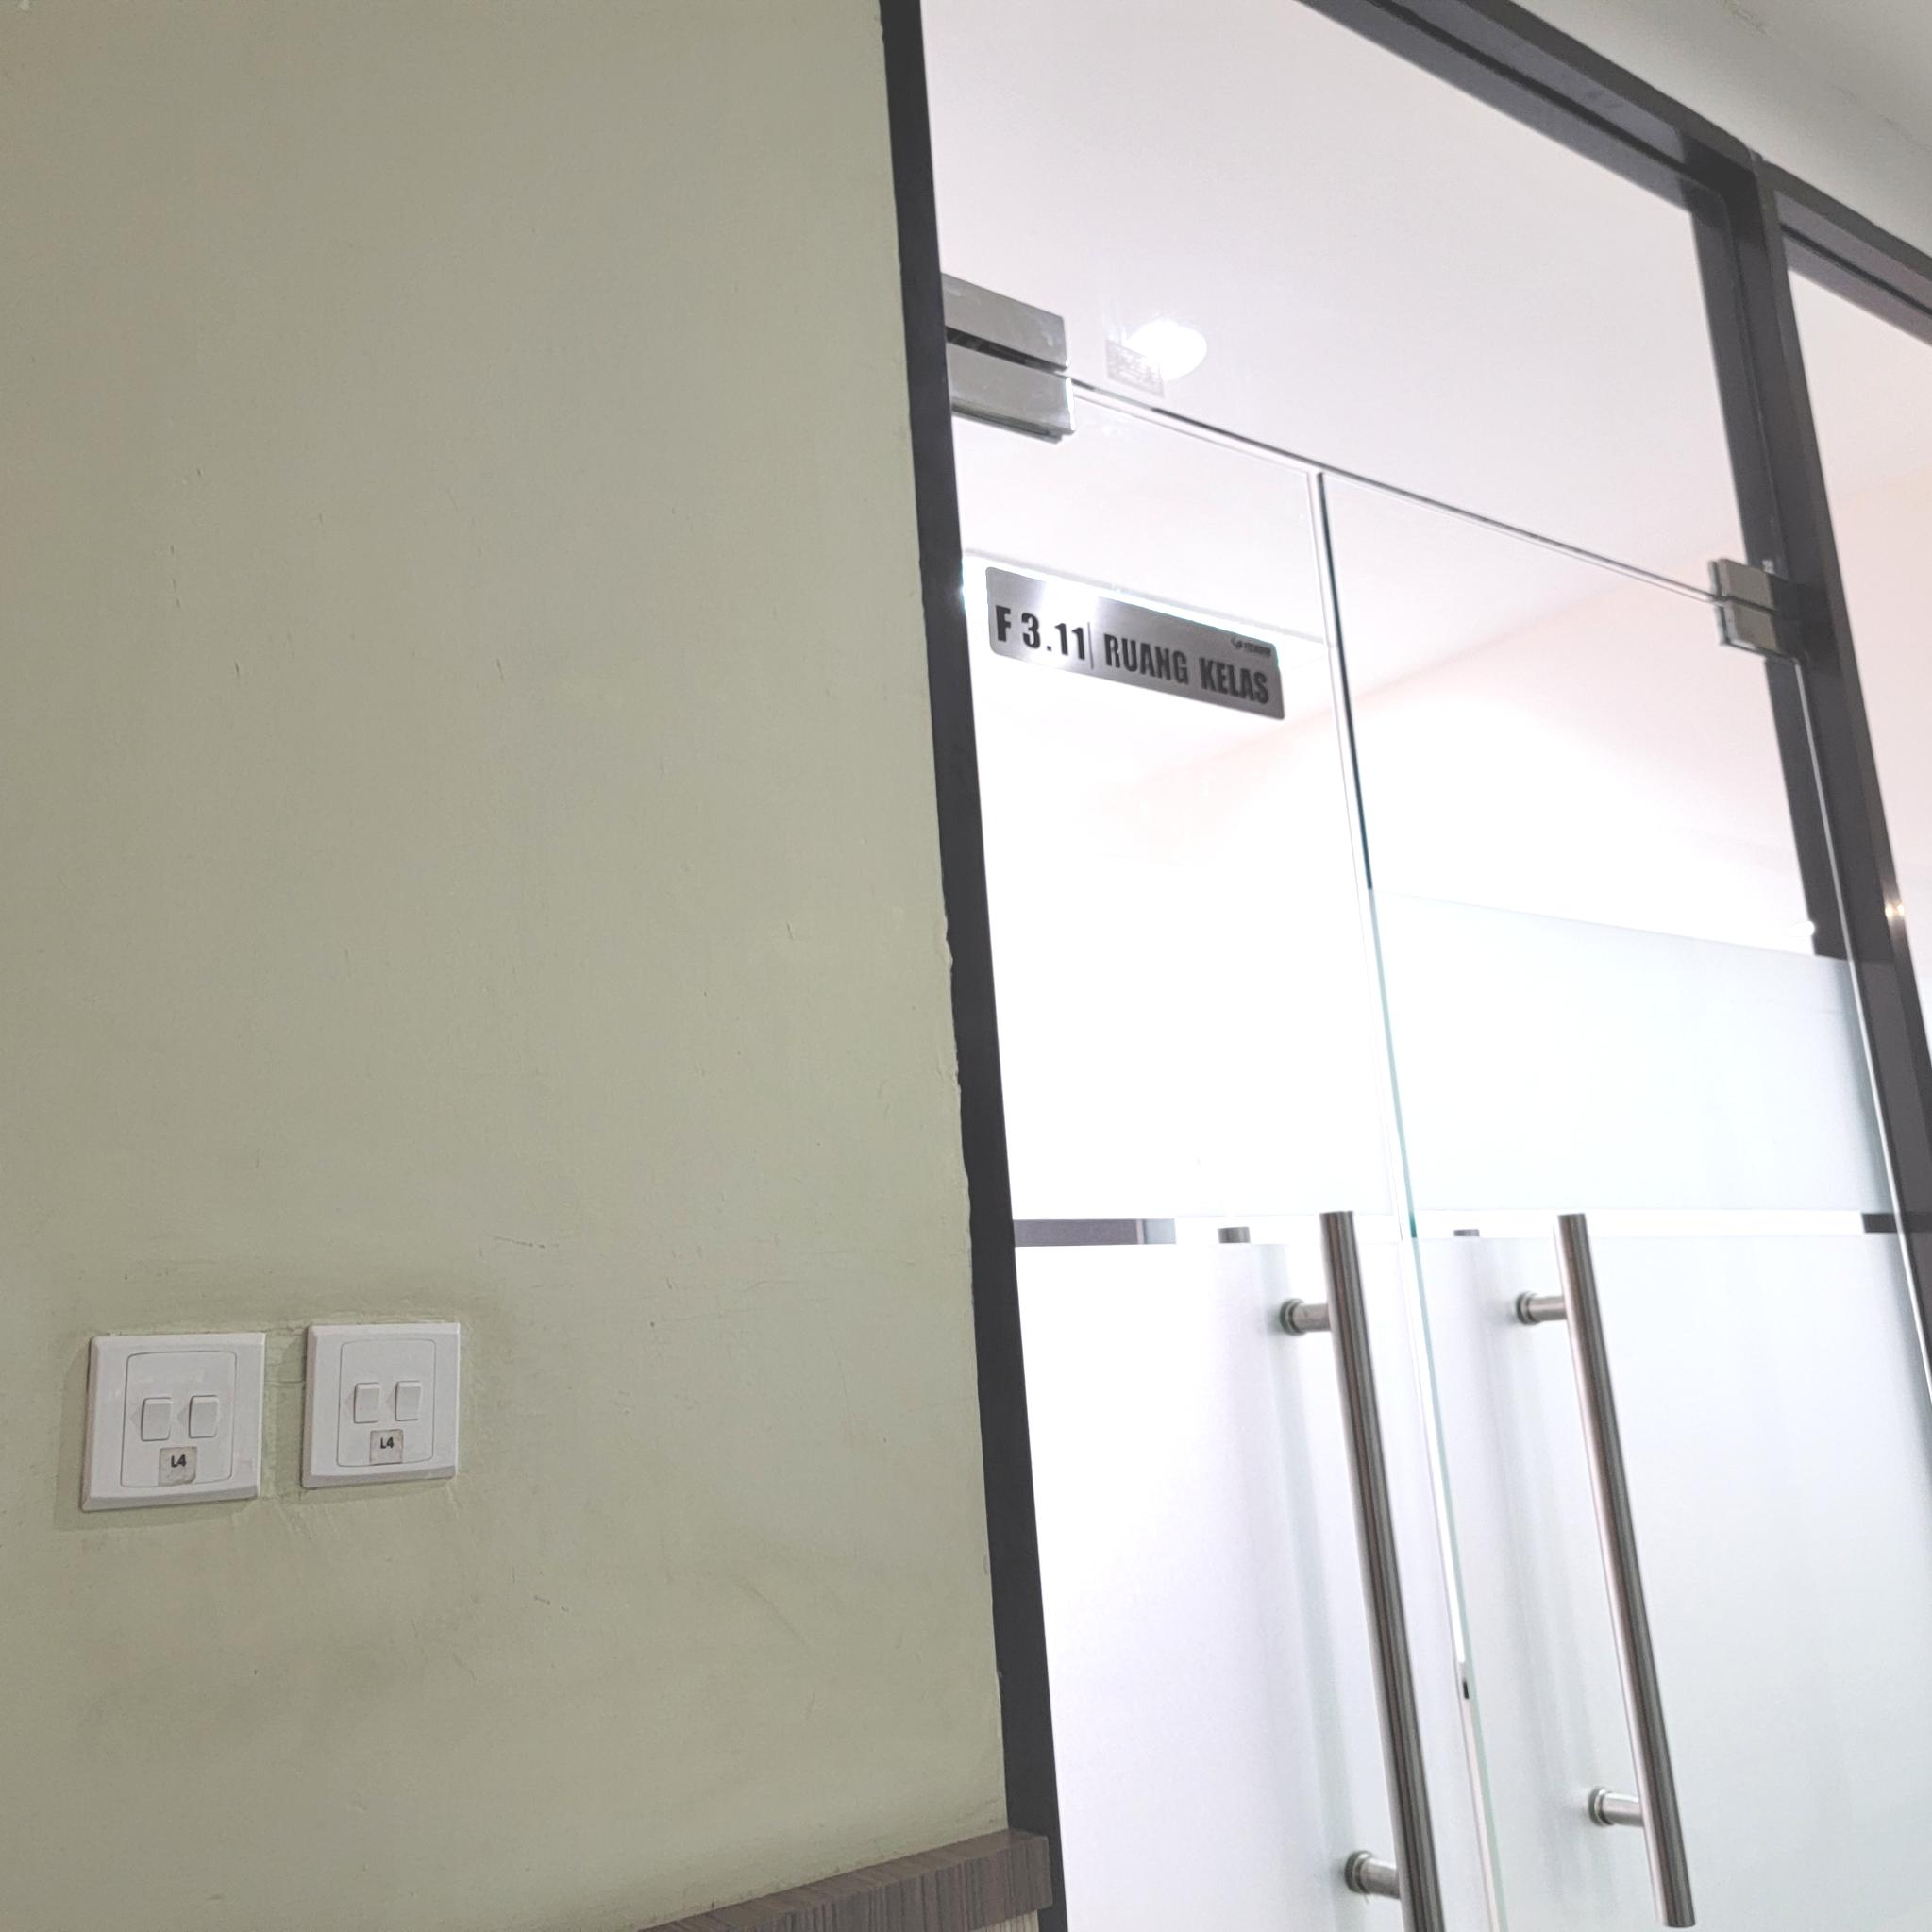plate: (987, 566, 1286, 722)
